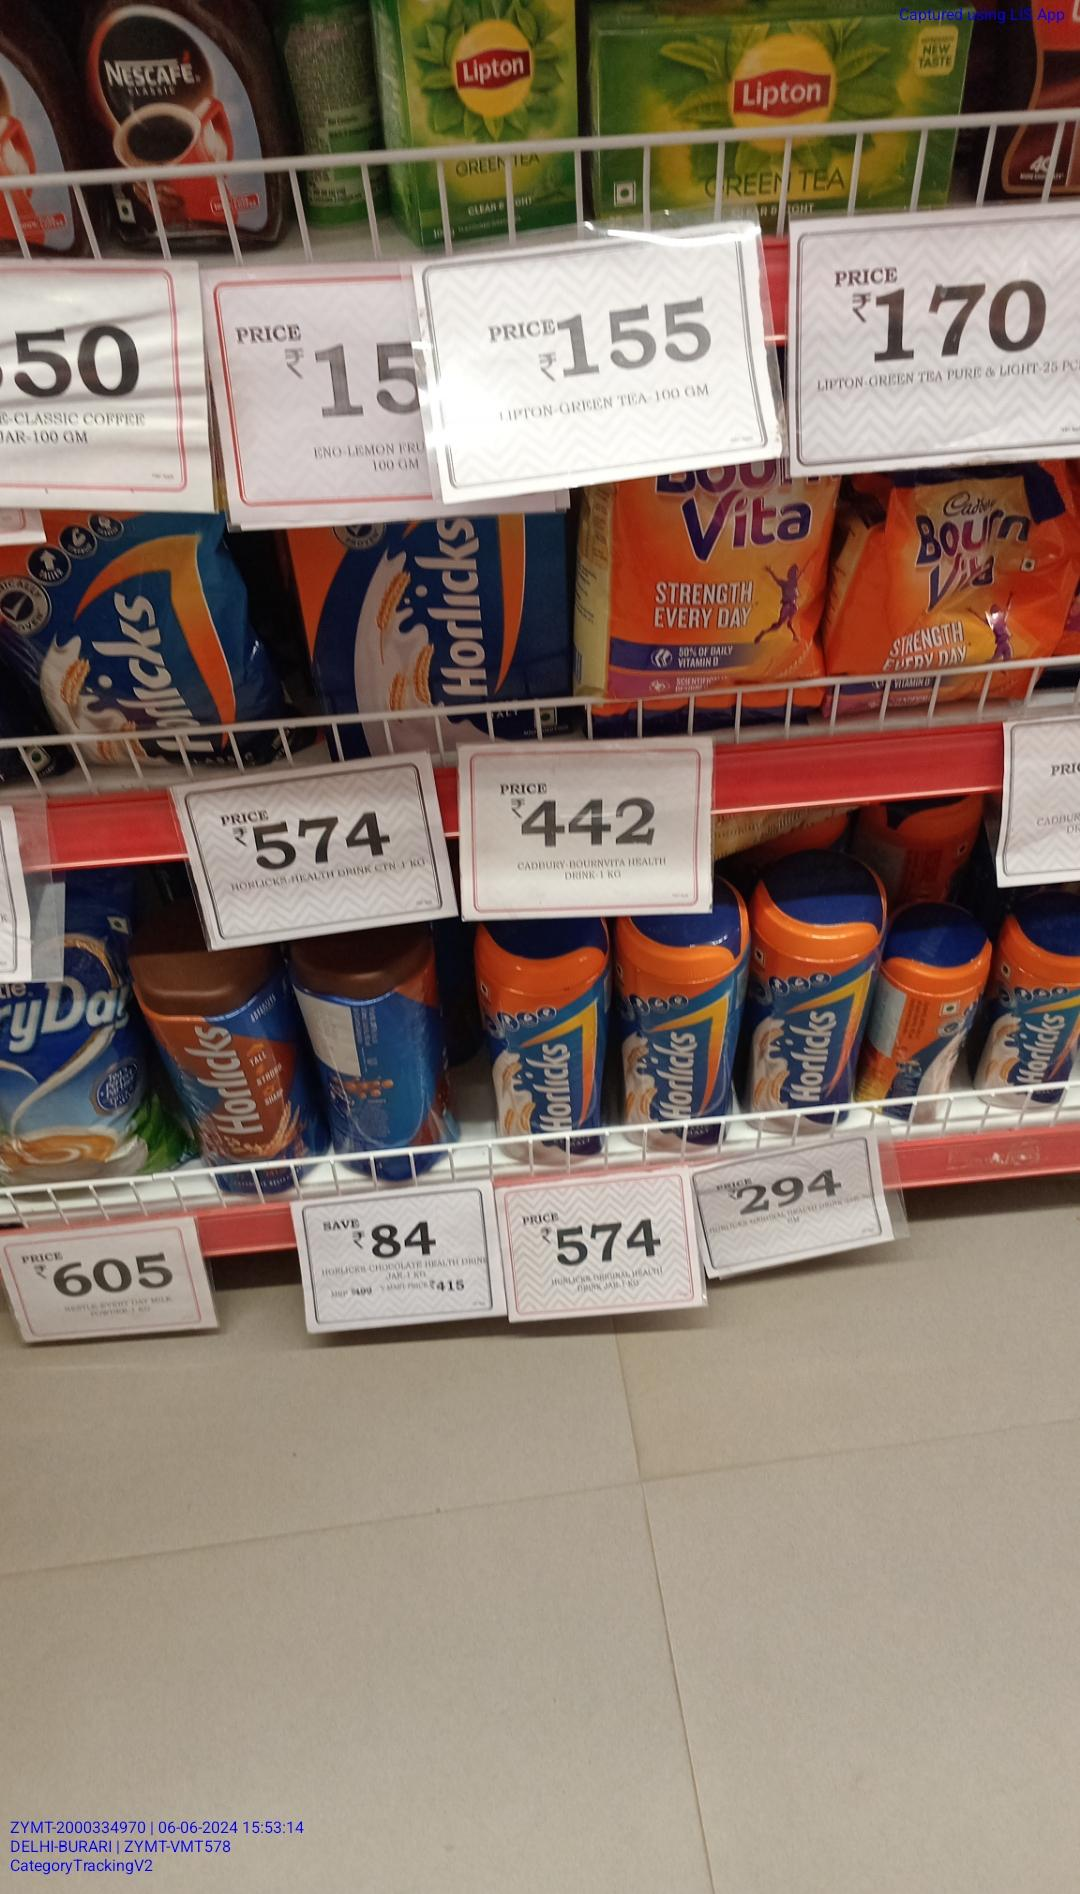HORLICK_CHOCOLATE_500_G_JAR: (152, 934, 314, 1192)
HORLICK_CLASSIC_MALT_200_G_JAR: (980, 894, 1080, 1110)
HORLICK_CLASSIC_MALT_500_G_JAR: (752, 855, 873, 1130), (480, 920, 612, 1155), (619, 912, 739, 1158)
HORLICK_CLASSIC_MALT_750_G_POUCH: (22, 518, 275, 760)
